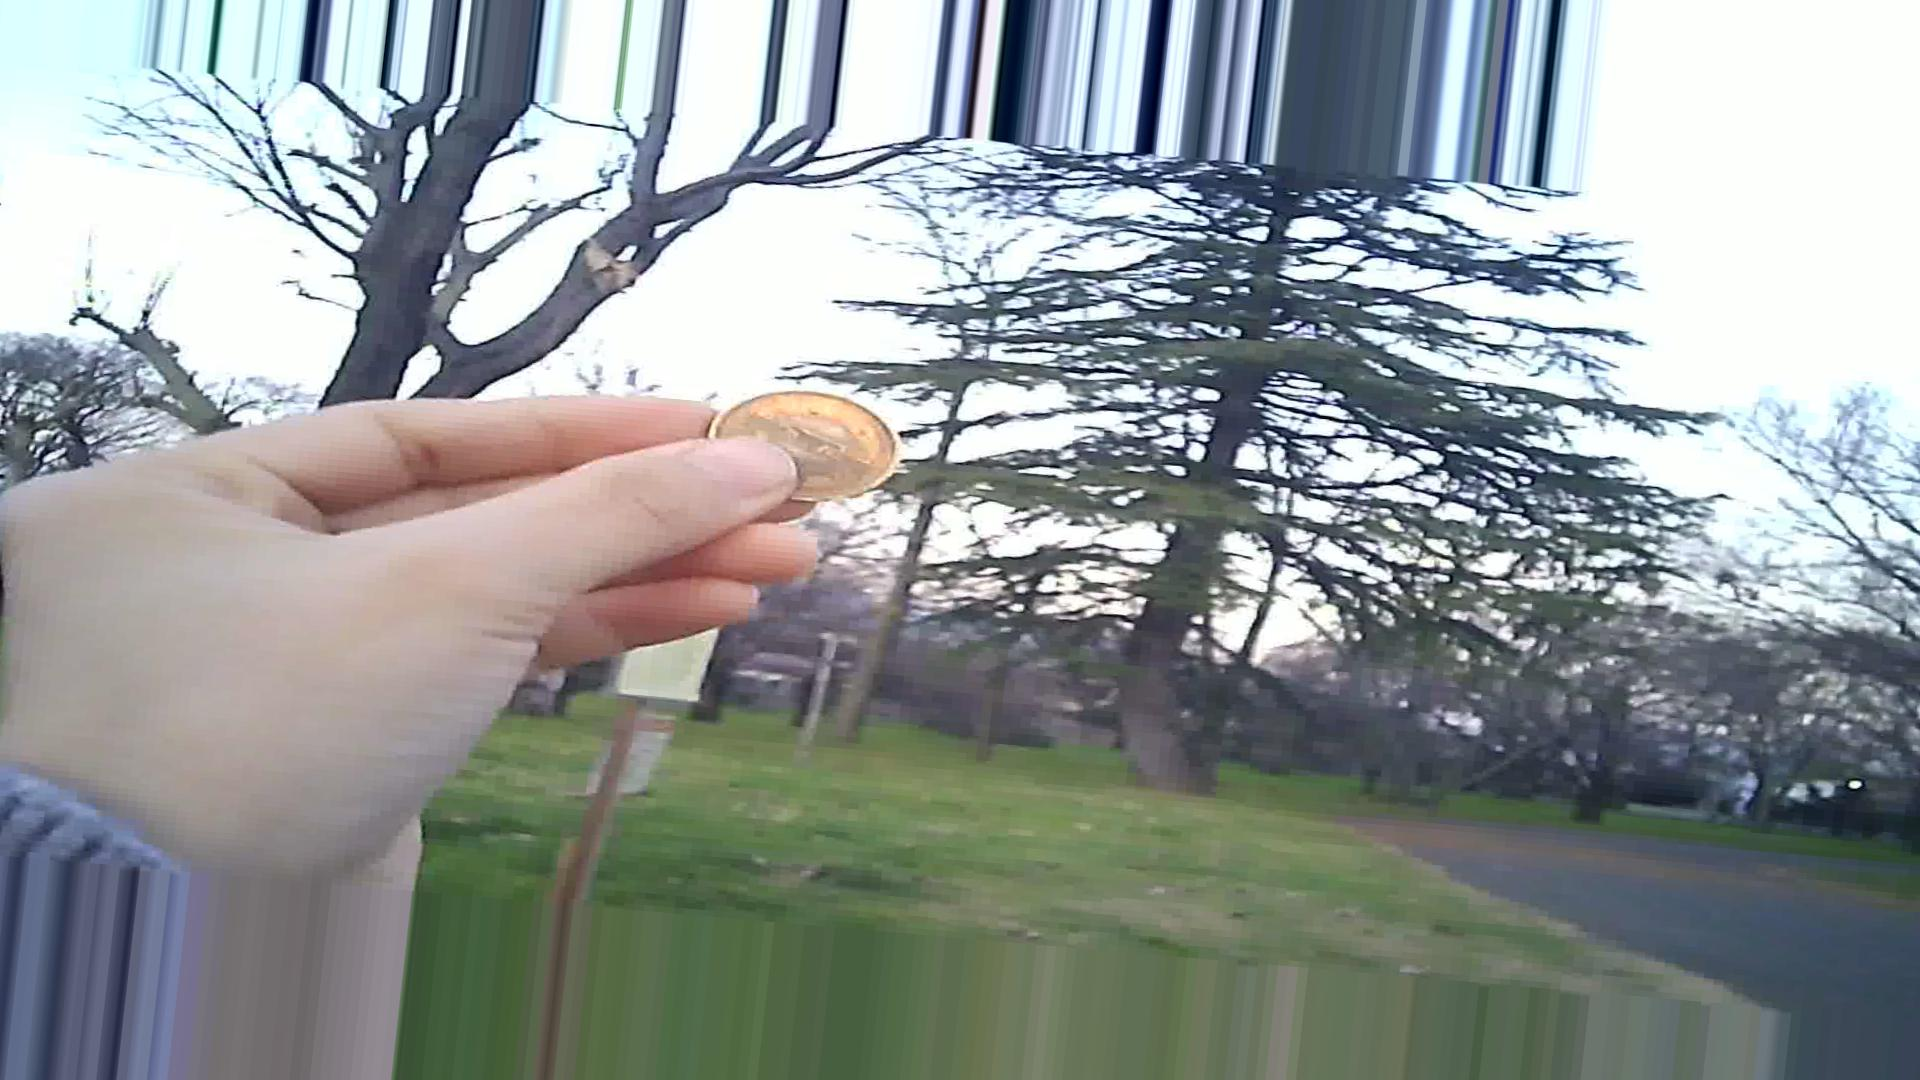10 Yen: (702, 371, 927, 520)
